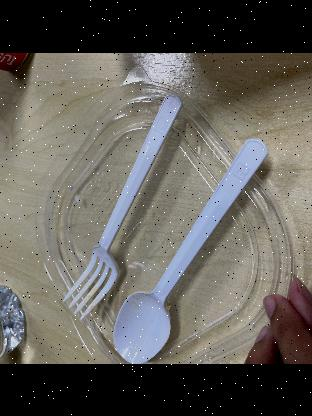Others: (108, 132, 266, 364), (56, 86, 194, 322)
